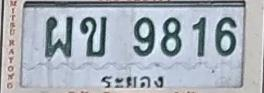1: (192, 16, 206, 57)
6: (215, 16, 236, 56)
8: (160, 16, 182, 56)
9: (132, 16, 154, 56)
A02: (80, 16, 107, 57)
A28: (44, 16, 73, 58)
RYG: (99, 71, 169, 89)
